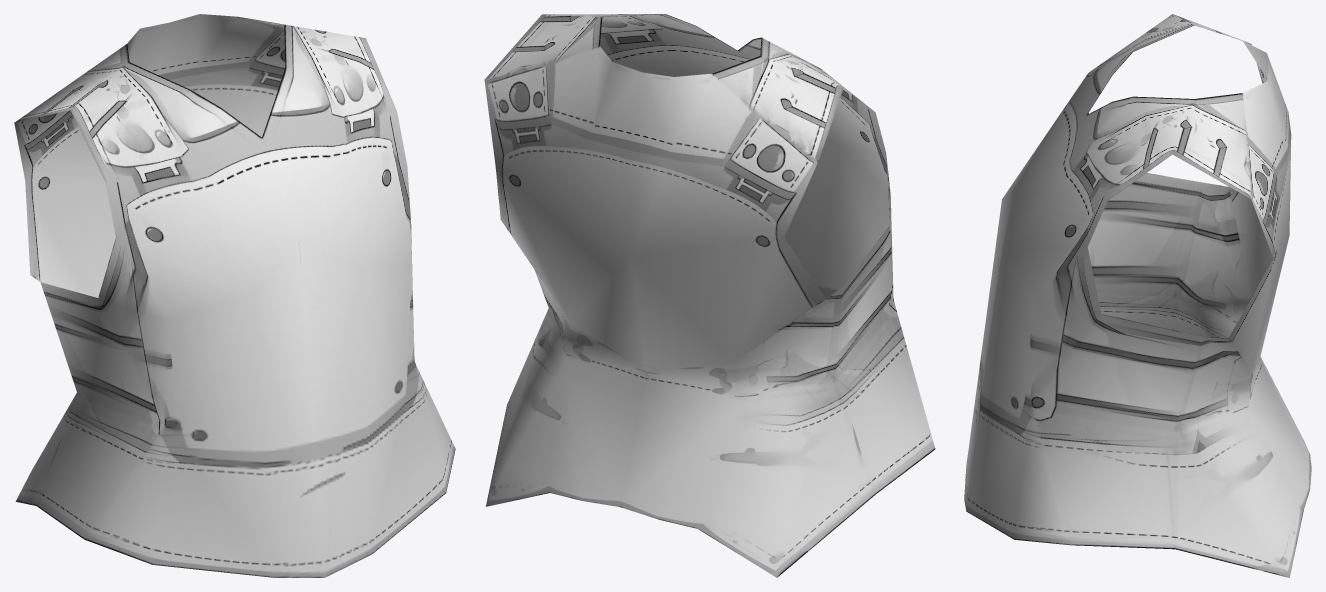
Rendered from CE_CompositeVest.glb.
3 views of the same model, side by side, from view 1: azimuth 30°, elevation 25°; view 2: azimuth 150°, elevation 25°; view 3: azimuth 270°, elevation 25° (orthographic). The views are drawn at different scales.
Visible parts, largest first — view 1: CE_CompositeVest; view 2: CE_CompositeVest; view 3: CE_CompositeVest.
Boxes of the visible parts, x1=… form: CE_CompositeVest: x1=14, y1=14, x2=455, y2=577; CE_CompositeVest: x1=484, y1=14, x2=935, y2=577; CE_CompositeVest: x1=964, y1=14, x2=1311, y2=577.
Size of the model in its own units: 5.5 by 6.5 by 4.57.
1 material, 1 textured.
